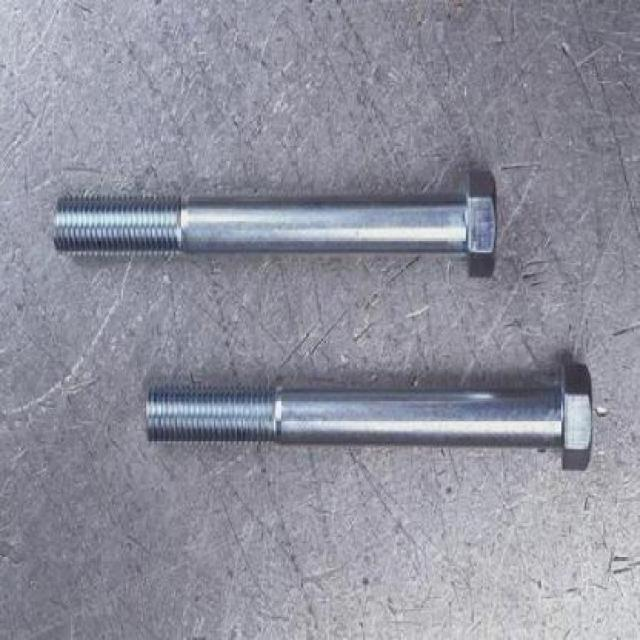Bolt: (140, 360, 596, 471), (48, 169, 502, 280)
